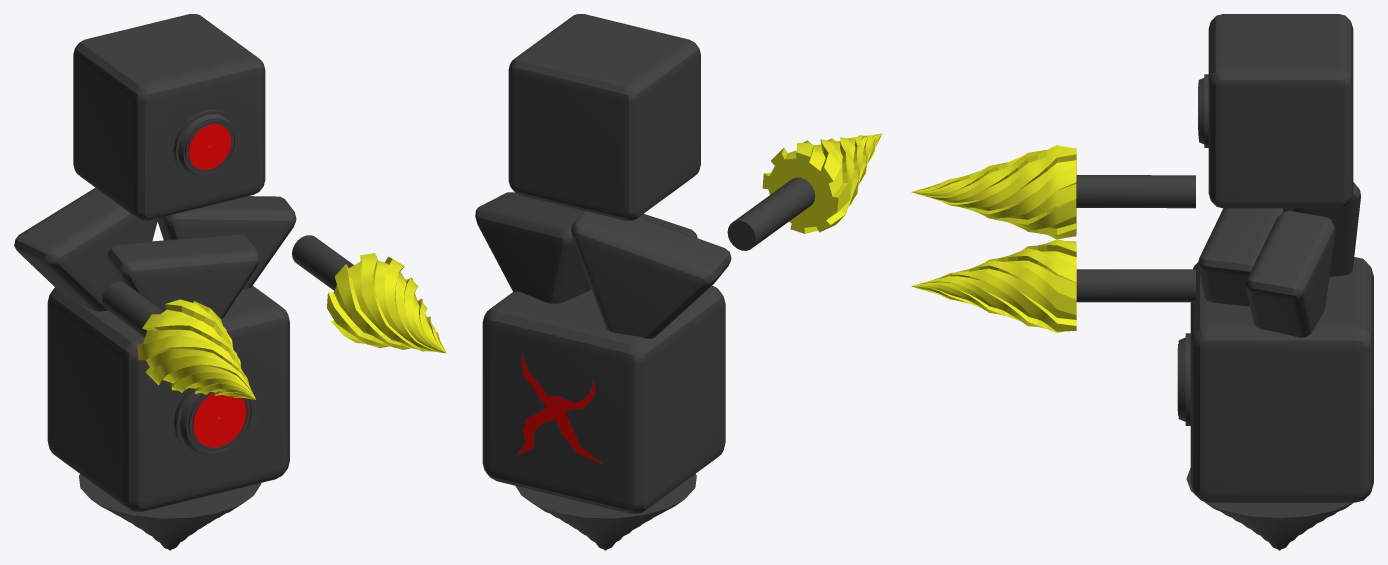
File: Boss4.fbx
The picture shows the model from 3 angles, left to right: view 1: azimuth 30°, elevation 25°; view 2: azimuth 150°, elevation 25°; view 3: azimuth 270°, elevation 25°; orthographic projection.
Parts seen in each view (by area): view 1: polySurface1; view 2: polySurface1; view 3: polySurface1.
Part boxes in pixels (left/top/right/bottom): polySurface1: left=14, top=14, right=446, bottom=550; polySurface1: left=475, top=14, right=882, bottom=550; polySurface1: left=911, top=14, right=1373, bottom=550.
Bounding box in the file's own units: 31.86 × 56.64 × 46.62.
